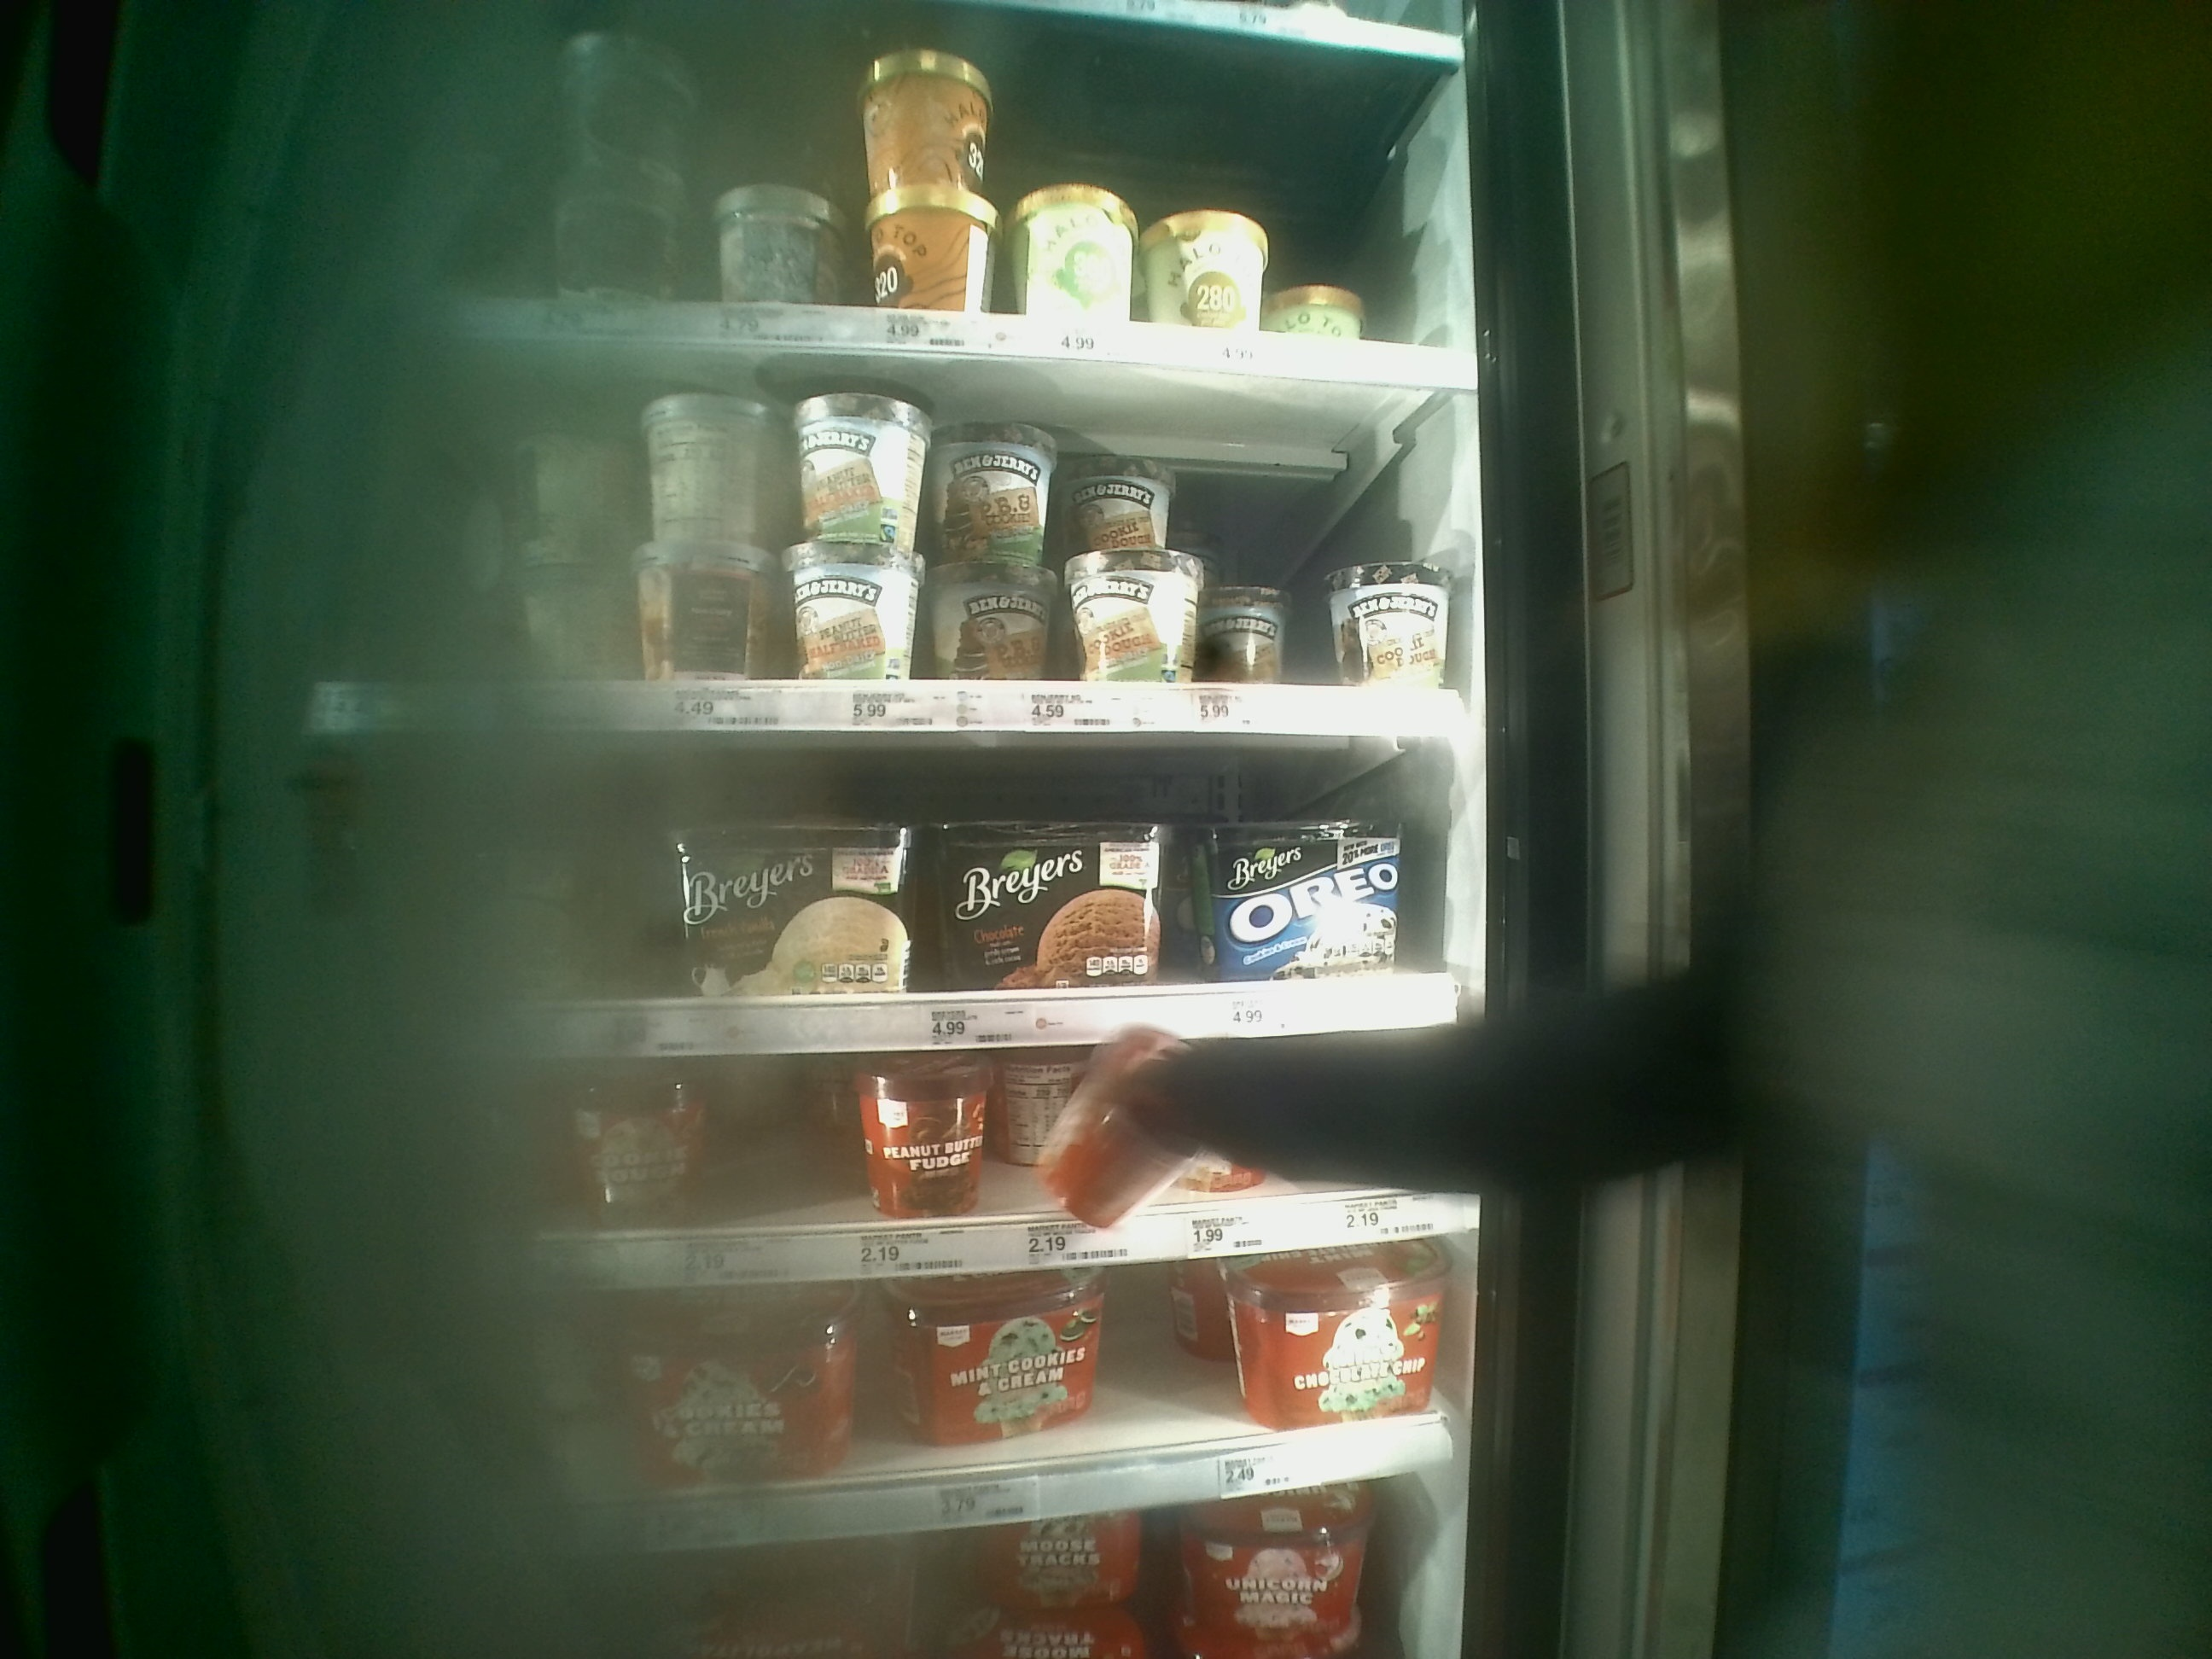shelf: (310, 335, 1475, 742), (307, 739, 1493, 1037)
